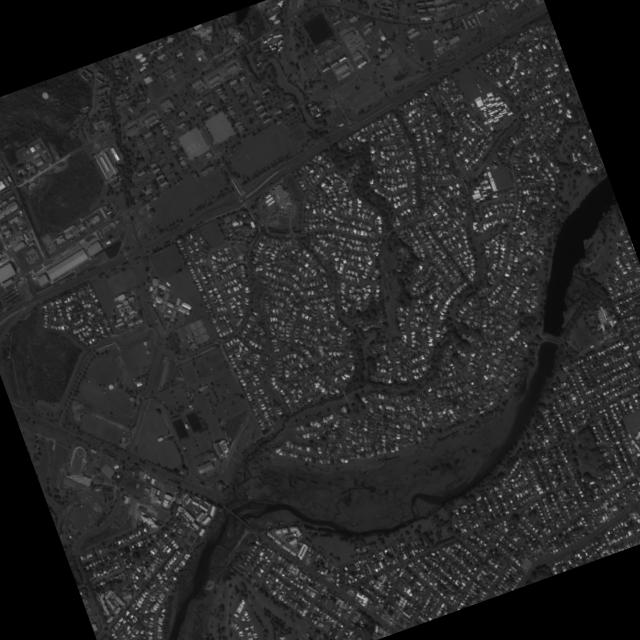storage-tank: (40, 90, 49, 100)
